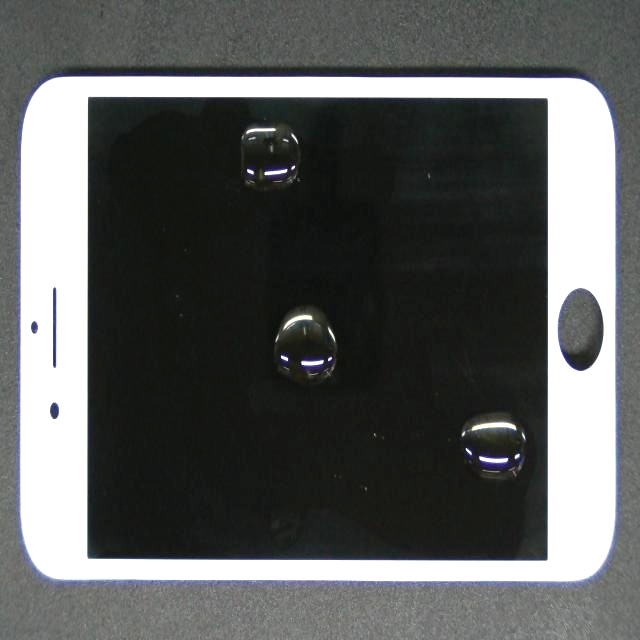oil: (267, 255, 640, 640), (203, 189, 501, 487), (124, 105, 424, 267)
